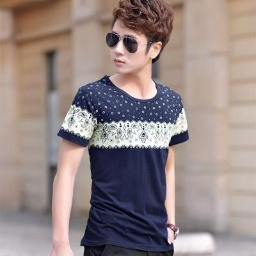face: (106, 1, 174, 77)
